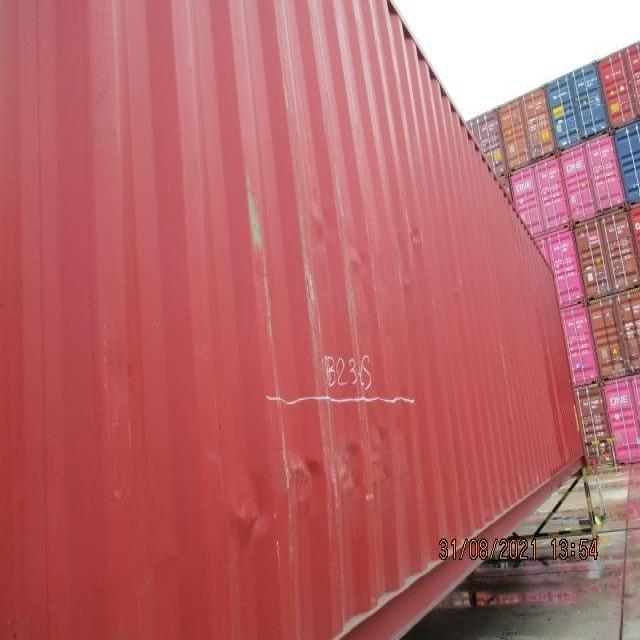dent: (195, 408, 424, 566), (292, 197, 435, 304)
